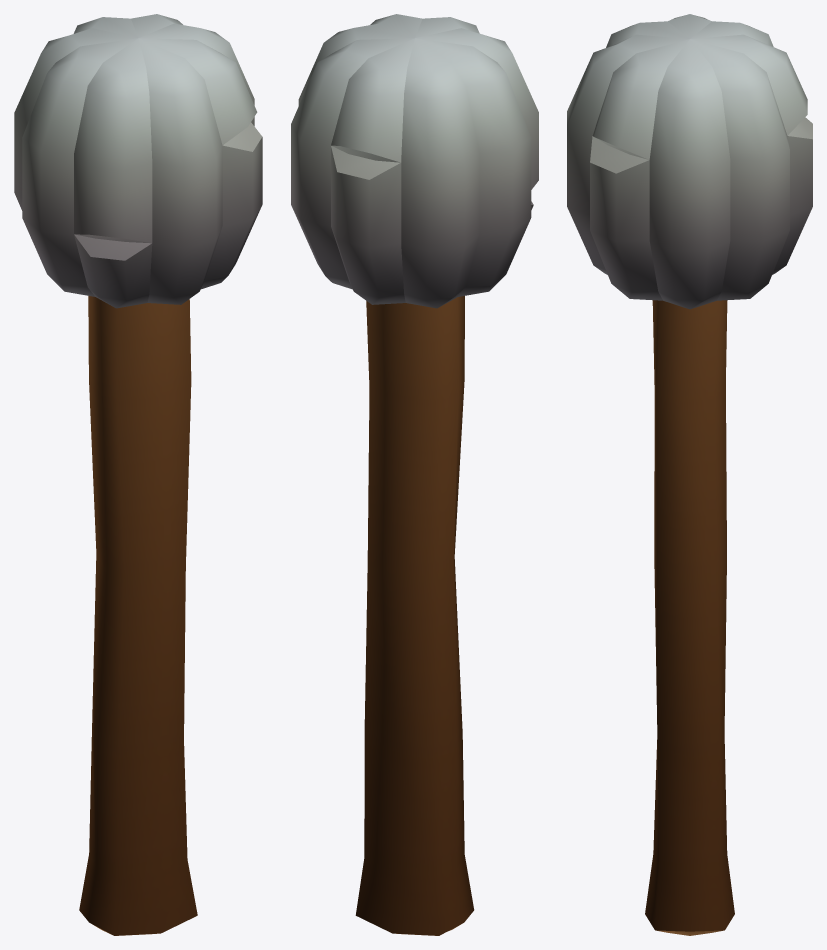
File: Mace_02.glb
3 views of the same model, side by side, from view 1: azimuth 30°, elevation 25°; view 2: azimuth 150°, elevation 25°; view 3: azimuth 270°, elevation 25° (orthographic).
Visible parts, largest first — view 1: Mace_02; view 2: Mace_02; view 3: Mace_02.
Boxes of the visible parts, x1,y1,x2,y2 form: Mace_02: (14,14,262,935); Mace_02: (291,14,538,935); Mace_02: (567,14,812,935).
Bounding box in the file's own units: 0.2542 × 1.01 × 0.2542.
Materials: 1 (1 with a texture image).
